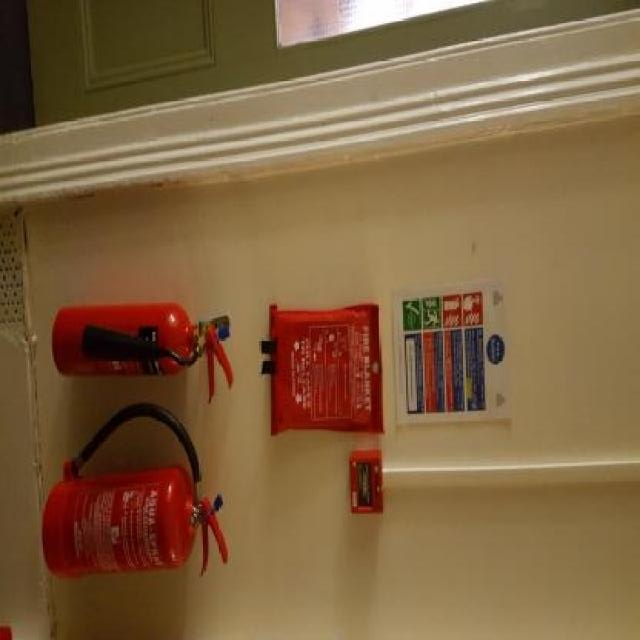fire extinguisher: (43, 402, 228, 578), (52, 304, 233, 401)
